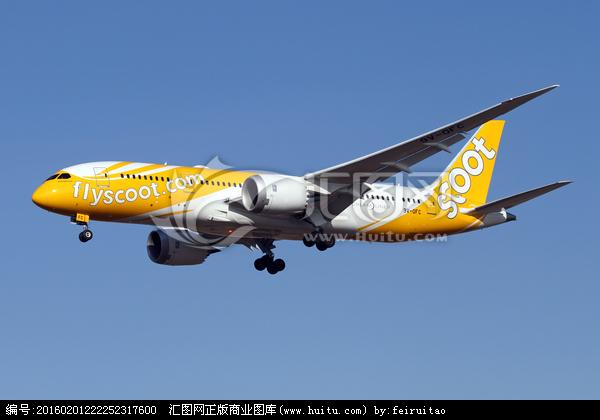airplane: (34, 71, 560, 264)
